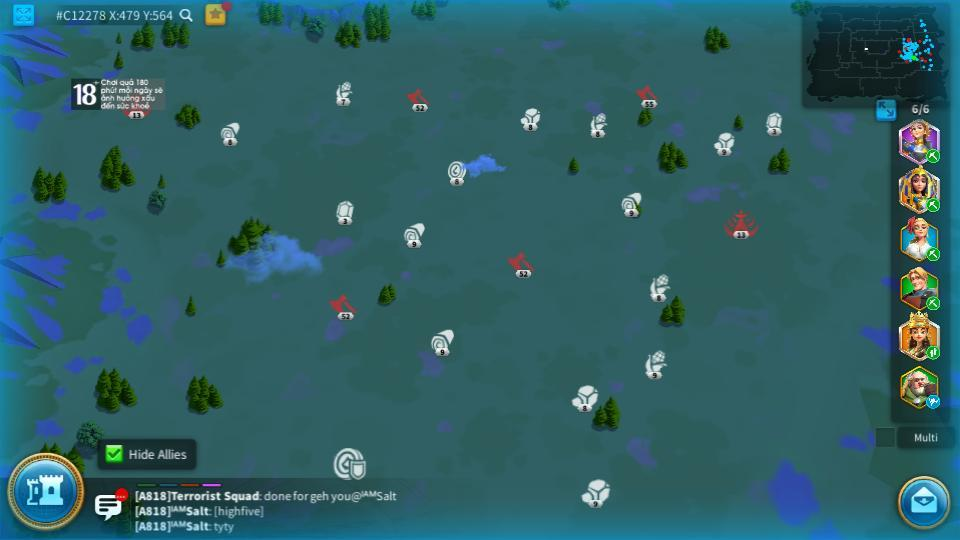gem-z-out: (334, 201, 356, 224), (765, 112, 783, 133)
march_farming: (925, 248, 941, 261)
march_idle: (925, 396, 942, 408)
march_marching: (925, 197, 941, 212), (925, 345, 941, 359), (925, 149, 941, 162), (925, 297, 942, 309)
